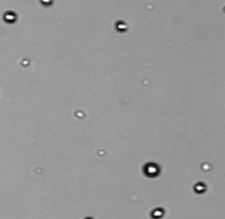Living Cell: (143, 163, 160, 178), (3, 10, 17, 24), (193, 181, 207, 194), (150, 206, 165, 218), (115, 20, 128, 32), (19, 57, 30, 66), (201, 162, 212, 171), (75, 110, 86, 119), (97, 148, 106, 156)
